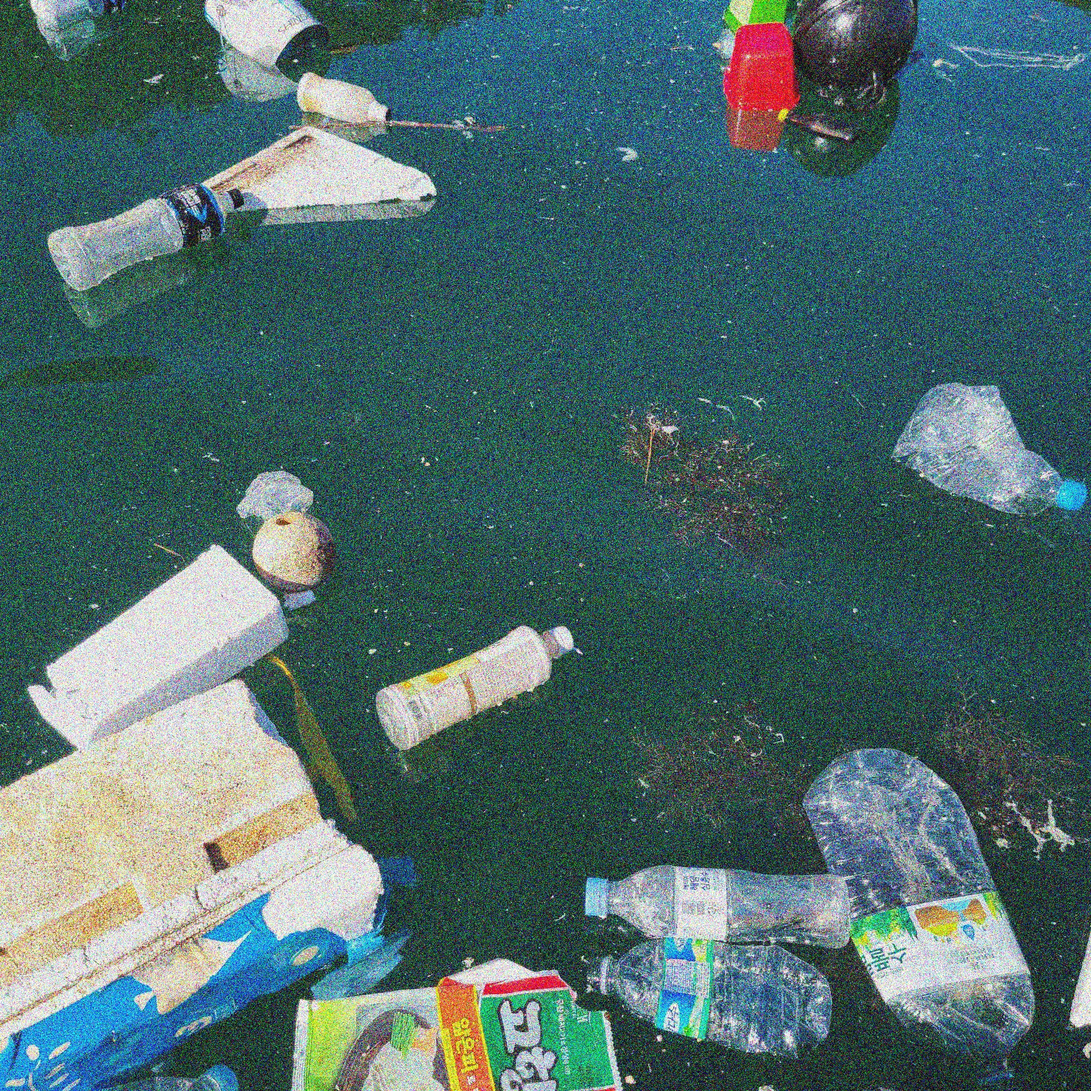sampah_terapung: (1, 679, 385, 1090), (803, 748, 1036, 1091), (28, 546, 289, 750), (587, 938, 831, 1064), (891, 382, 1088, 516), (376, 625, 574, 750), (584, 865, 851, 950), (48, 183, 244, 291), (198, 127, 437, 213), (793, 1, 918, 100), (723, 24, 800, 112), (254, 513, 335, 591), (297, 72, 392, 124), (236, 471, 314, 523), (100, 1065, 240, 1091), (777, 109, 861, 147), (37, 1, 132, 31), (722, 1, 788, 37), (1070, 931, 1091, 1029), (816, 89, 854, 110), (285, 590, 316, 611), (716, 29, 735, 60)
